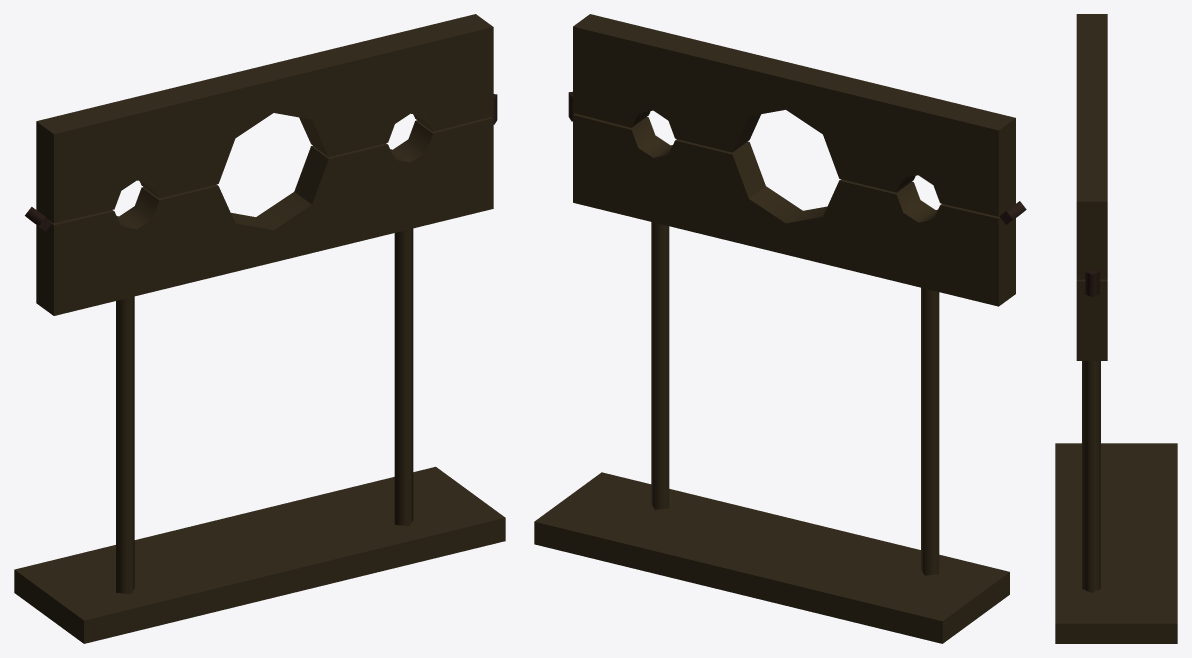
3 views of the same model, side by side, from view 1: azimuth 30°, elevation 25°; view 2: azimuth 150°, elevation 25°; view 3: azimuth 270°, elevation 25° (orthographic). The views are drawn at different scales.
Visible parts, largest first — view 1: Plane004; view 2: Plane004; view 3: Plane004.
Part boxes in pixels (x1,y1,x2,y2): Plane004: (14,14,505,643); Plane004: (534,14,1026,643); Plane004: (1055,14,1177,643).
Size of the model in its own units: 1.06 by 1.1 by 0.2747.
